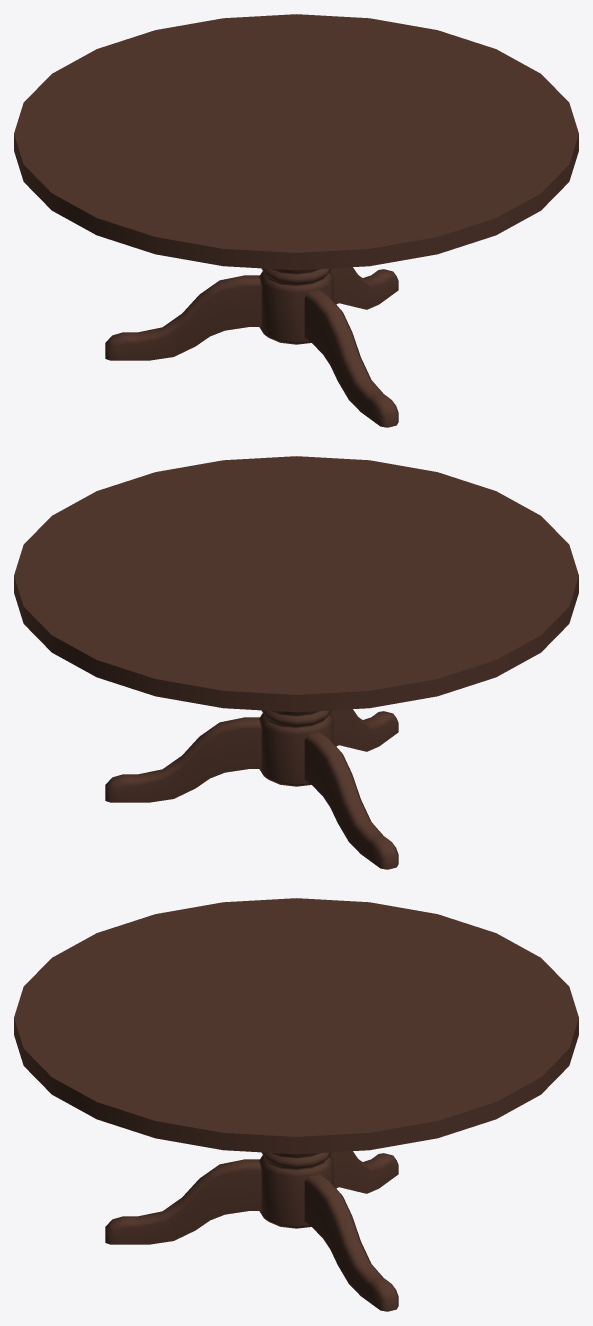
Rendered from Fancy table 1.fbx.
3 renders of one model, top to bottom at view 1: azimuth 30°, elevation 25°; view 2: azimuth 150°, elevation 25°; view 3: azimuth 270°, elevation 25°, orthographic.
Parts seen in each view (by area): view 1: pCylinder11; view 2: pCylinder11; view 3: pCylinder11.
Boxes of the visible parts, box(x1,y1,x2,y2) form: pCylinder11: box(14, 14, 578, 427); pCylinder11: box(14, 456, 578, 869); pCylinder11: box(14, 898, 578, 1311).
Bounding box in the file's own units: 91.16 × 39.73 × 91.16.
